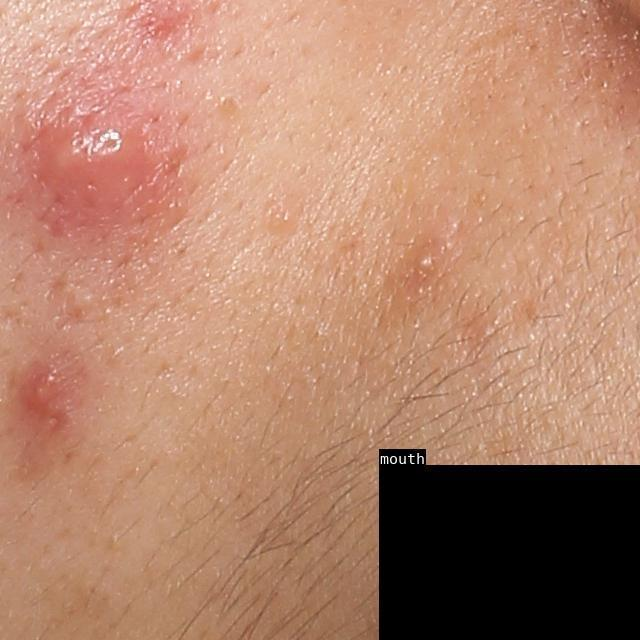atrophic_scar: (50, 276, 85, 336)
comedo: (273, 206, 298, 231)
papule: (17, 358, 70, 418)
